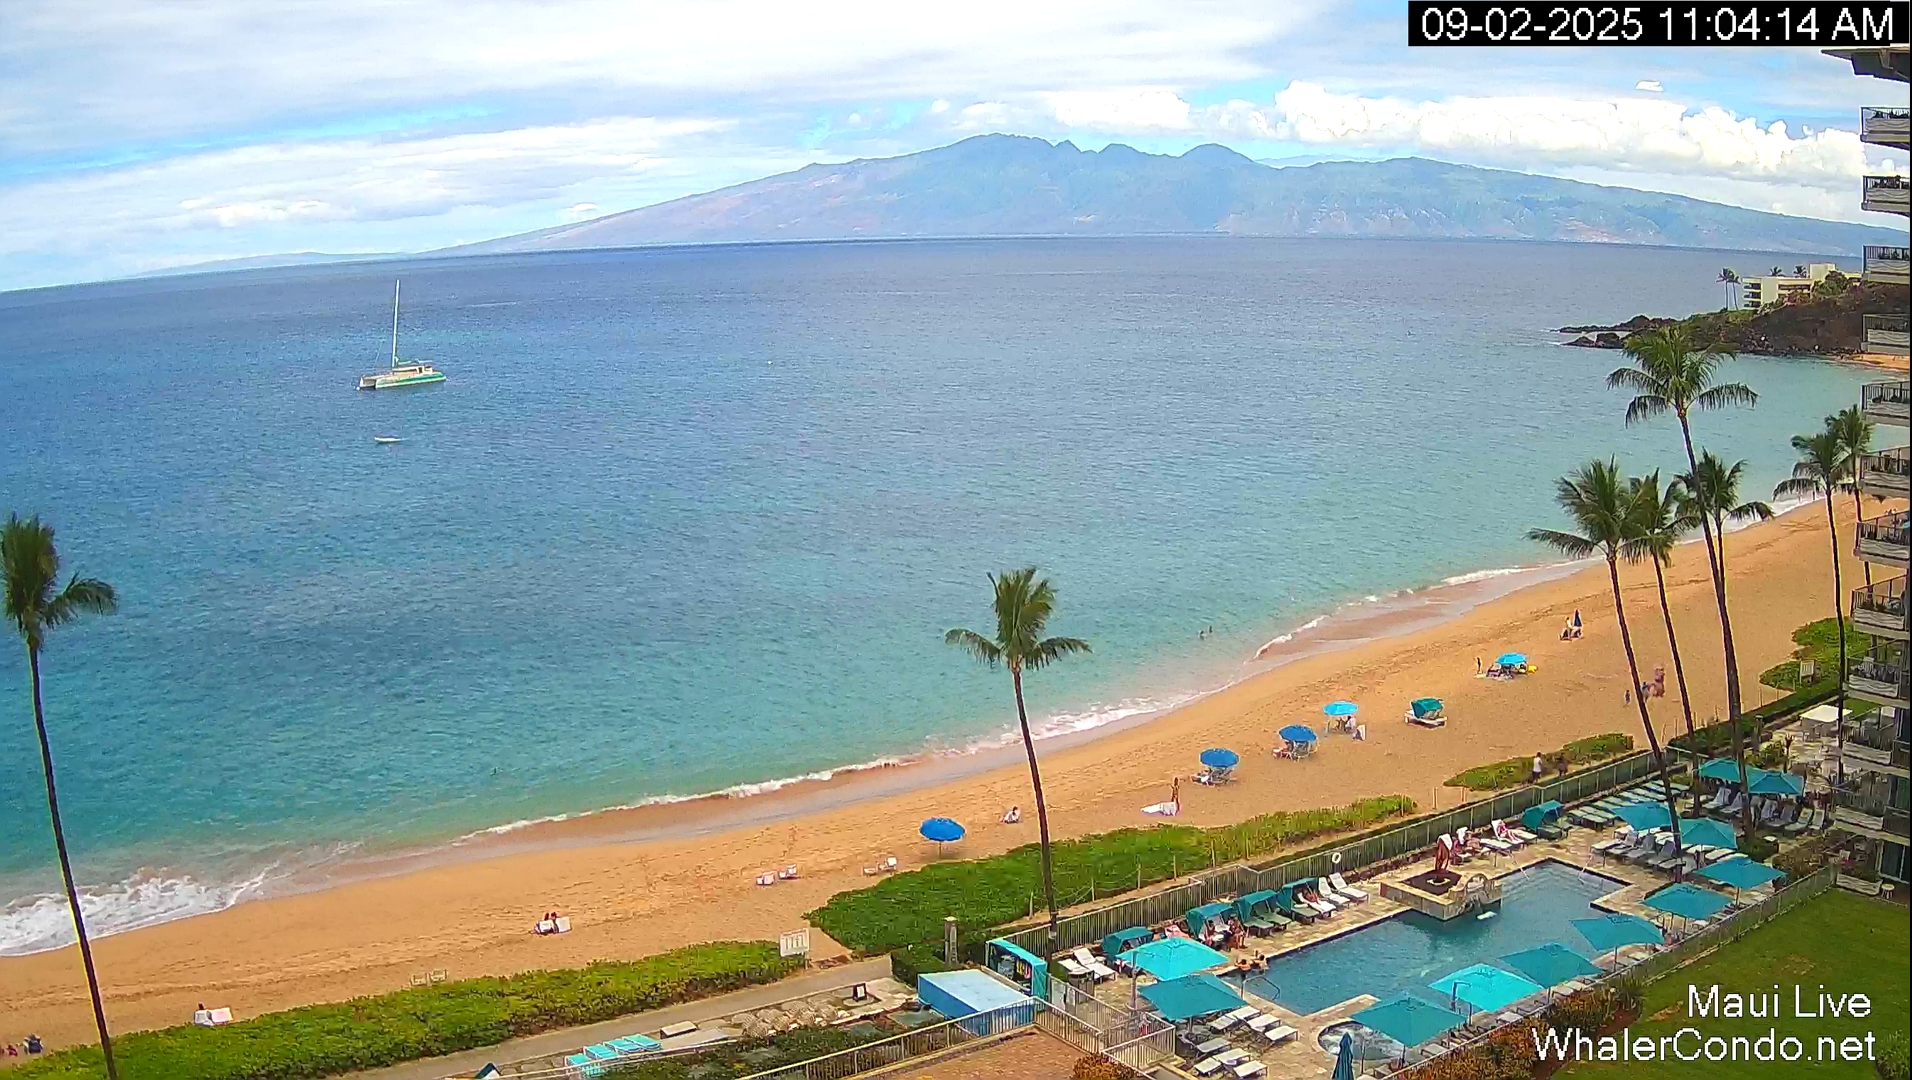boat: (356, 279, 447, 391), (473, 1032, 639, 1080), (357, 362, 447, 391), (374, 436, 402, 443)
person: (1531, 751, 1544, 783), (1169, 777, 1181, 811), (1000, 805, 1020, 824), (1557, 754, 1568, 778), (1536, 752, 1543, 780), (543, 911, 560, 922), (1474, 656, 1483, 674), (1624, 689, 1631, 706)
